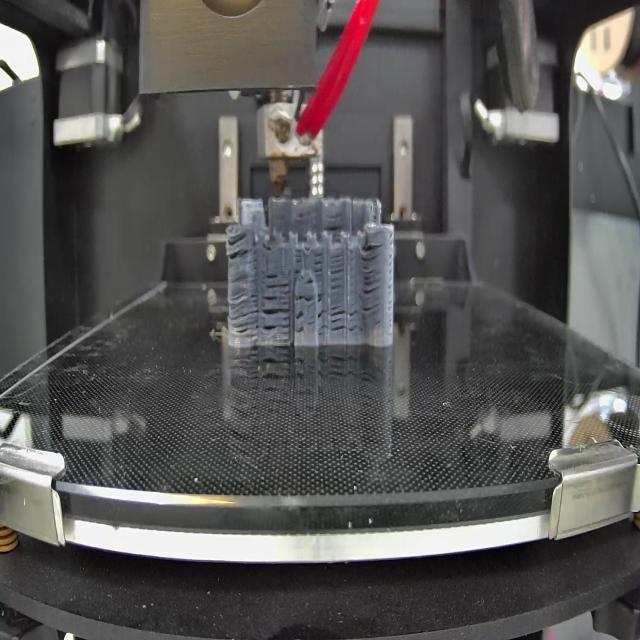cracks: (228, 275, 260, 340), (362, 242, 380, 320), (262, 295, 290, 338), (226, 233, 253, 262), (329, 254, 345, 293), (264, 273, 291, 293), (330, 307, 345, 336), (318, 294, 326, 340), (291, 248, 303, 276), (294, 312, 305, 340), (295, 294, 317, 306), (350, 304, 358, 337), (313, 254, 324, 277), (324, 222, 345, 234), (304, 278, 315, 285)
